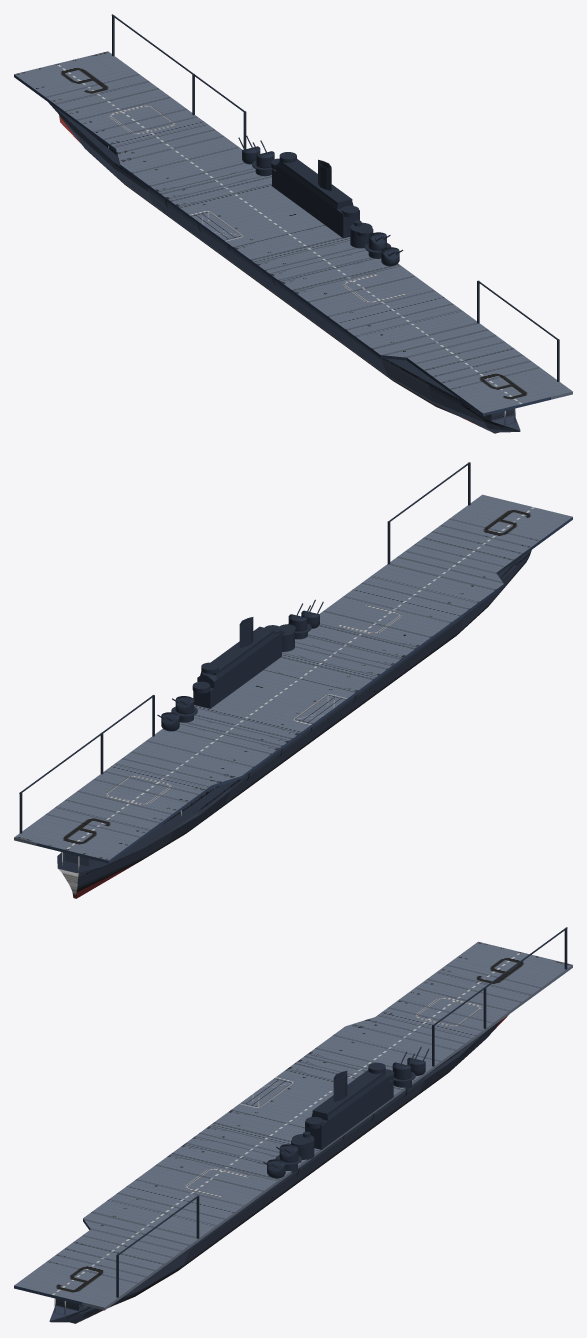
File: USS Essex (CV-9).fbx
3 views of the same model, one above another, from view 1: azimuth 30°, elevation 25°; view 2: azimuth 150°, elevation 25°; view 3: azimuth 330°, elevation 25° (orthographic).
Parts seen in each view (by area): view 1: Flight Deck, Hull, Island, Detail; view 2: Flight Deck, Hull, Island, Detail; view 3: Flight Deck, Hull, Island, Detail.
Part boxes in pixels (x1,y1,x2,y2): Flight Deck: (14, 51, 572, 416); Hull: (48, 102, 520, 433); Island: (271, 152, 373, 248); Detail: (111, 14, 559, 381); Flight Deck: (14, 494, 572, 863); Hull: (57, 550, 531, 898); Island: (192, 617, 295, 708); Detail: (19, 462, 470, 833); Flight Deck: (14, 941, 572, 1310); Hull: (49, 1015, 508, 1323); Island: (291, 1062, 394, 1159); Detail: (116, 927, 567, 1297).
Size of the model in its own units: 67.09 by 59.83 by 482.
